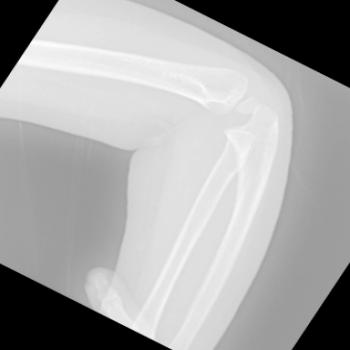Fracture: (225, 187, 264, 206)
